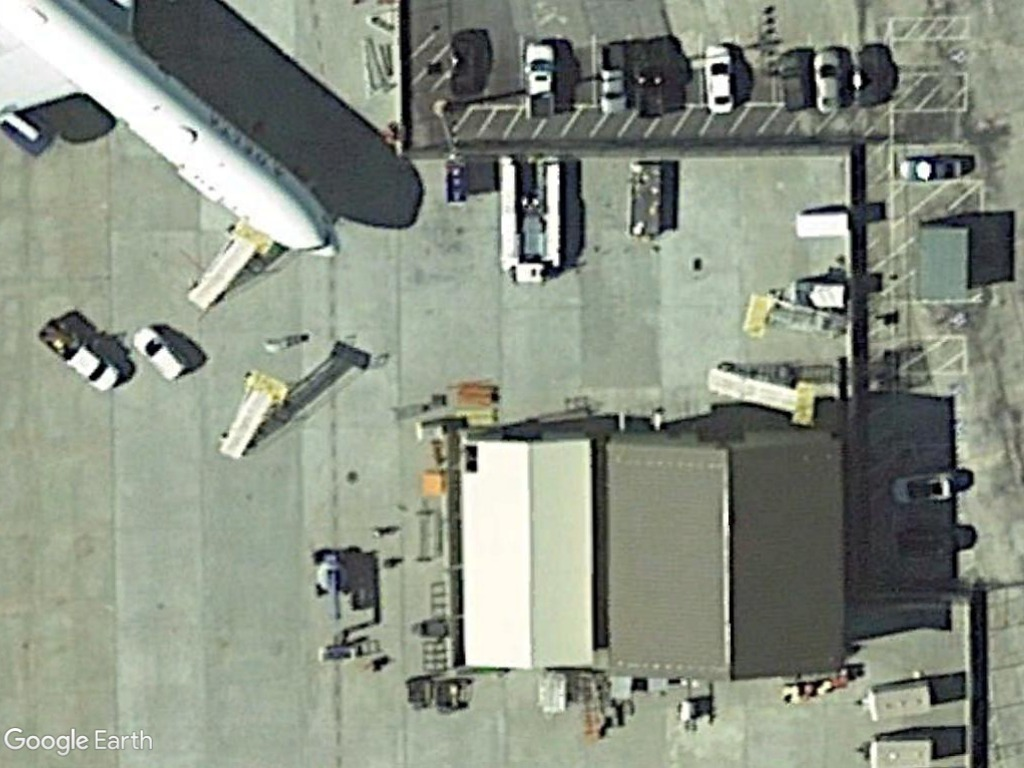car: (699, 41, 738, 117)
other: (34, 315, 121, 394)
pushbacktruck: (495, 153, 563, 280)
stairtruck: (707, 361, 826, 428), (184, 223, 273, 311), (213, 371, 294, 467), (741, 291, 850, 349)
van: (127, 325, 188, 381)
